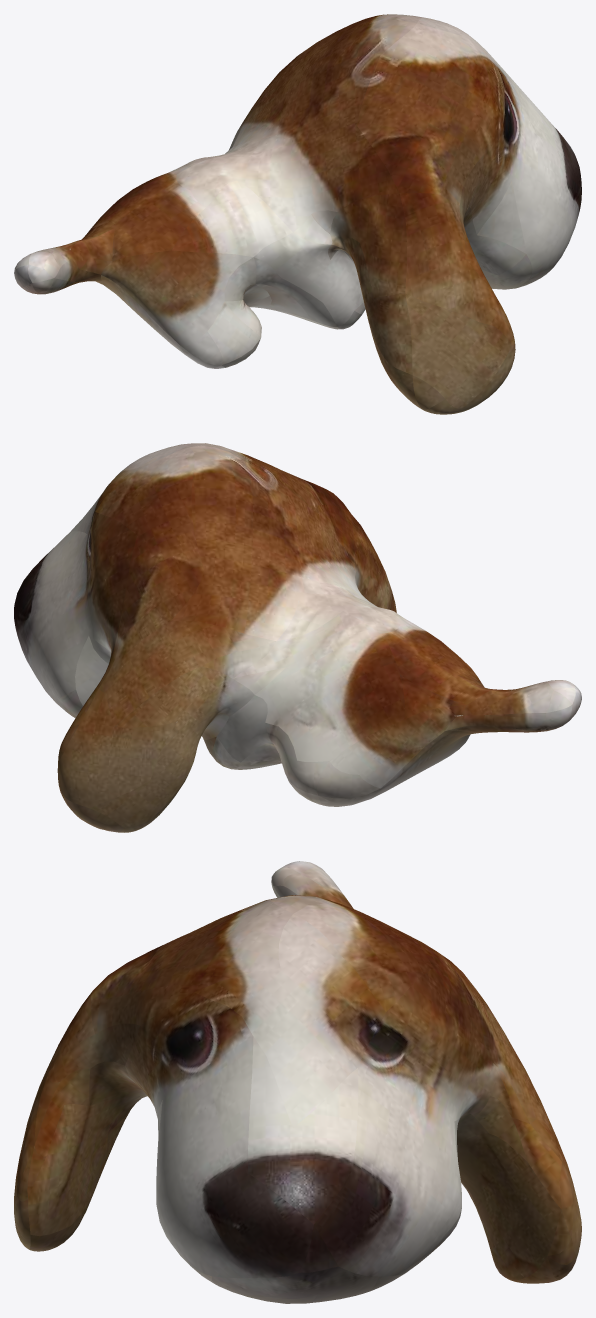
Rendered from PIES2.obj.
3 renders of one model, top to bottom at view 1: azimuth 30°, elevation 25°; view 2: azimuth 150°, elevation 25°; view 3: azimuth 270°, elevation 25°, orthographic. The views are drawn at different scales.
Visible parts, largest first — view 1: Mesh1 _1_1 Model; view 2: Mesh1 _1_1 Model; view 3: Mesh1 _1_1 Model.
Boxes of the visible parts, x1,y1,x2,y2 form: Mesh1 _1_1 Model: [14, 14, 581, 414]; Mesh1 _1_1 Model: [14, 443, 581, 832]; Mesh1 _1_1 Model: [14, 861, 581, 1303].
Size of the model in its own units: 13.85 by 7.41 by 9.87.
Materials: 1 (1 with a texture image).
